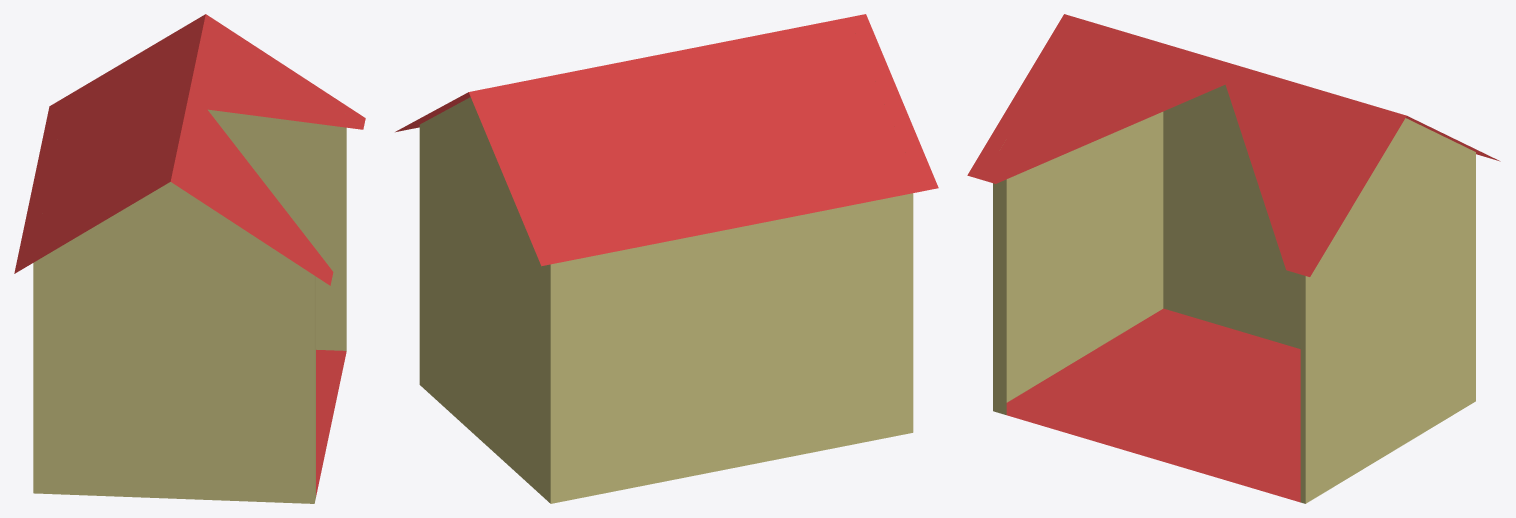
The picture shows the model from 3 angles, left to right: view 1: azimuth 30°, elevation 25°; view 2: azimuth 150°, elevation 25°; view 3: azimuth 270°, elevation 25°; orthographic projection. The views are drawn at different scales.
Bounding box in the file's own units: 13.97 × 14.53 × 10.22.
